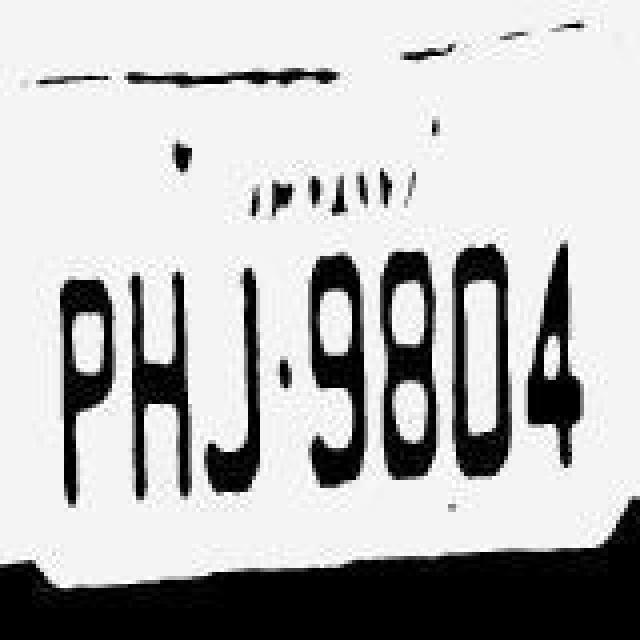4: (524, 228, 596, 492)
8: (374, 222, 442, 498)
9: (302, 230, 370, 498)
H: (128, 266, 200, 518)
J: (204, 252, 276, 516)
O: (444, 224, 516, 488)
P: (48, 266, 128, 534)
